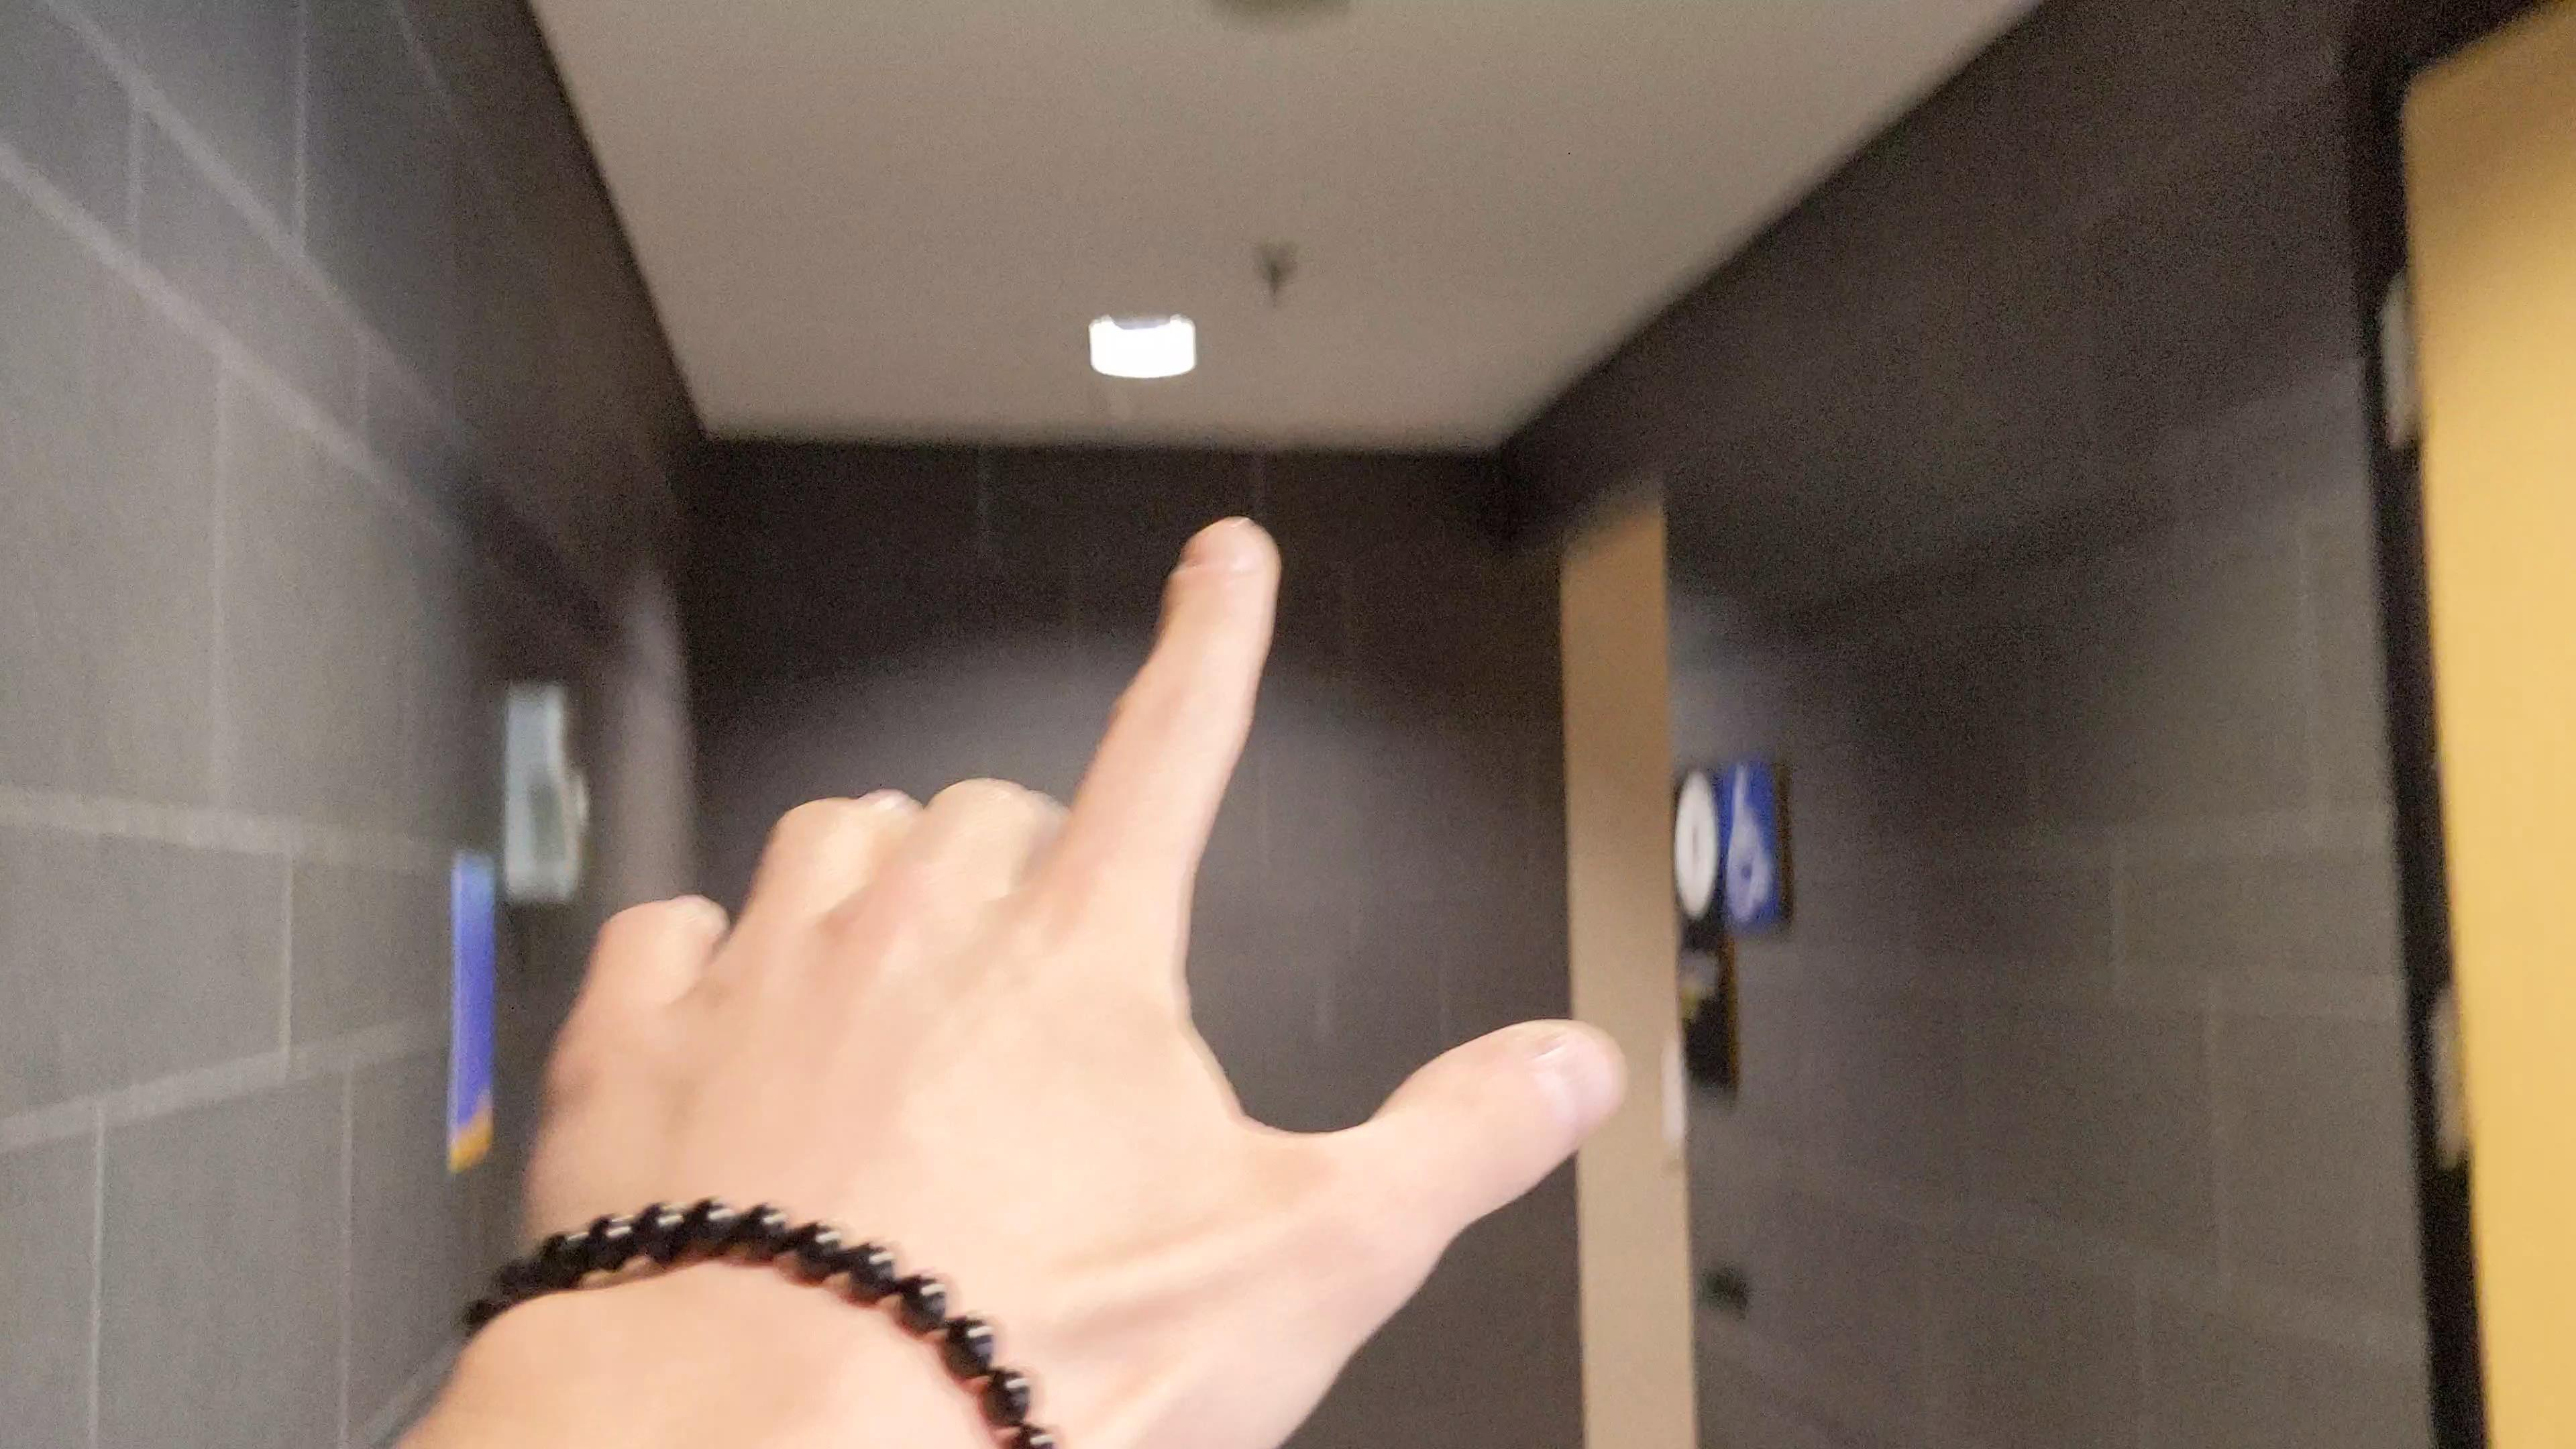handicapped symbol: (1723, 766, 1776, 920)
